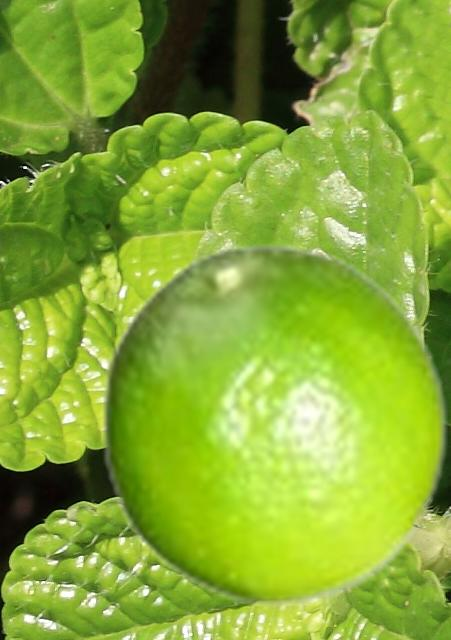calamansi: (100, 241, 449, 604)
